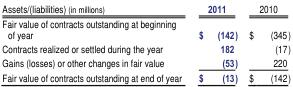table: (1, 1, 289, 84)
table column: (1, 1, 189, 84), (189, 1, 242, 84), (242, 1, 289, 84)
table column header: (1, 1, 289, 15)
table row: (1, 15, 289, 41), (1, 55, 289, 70), (1, 1, 289, 15), (1, 41, 289, 55), (1, 70, 289, 84)
